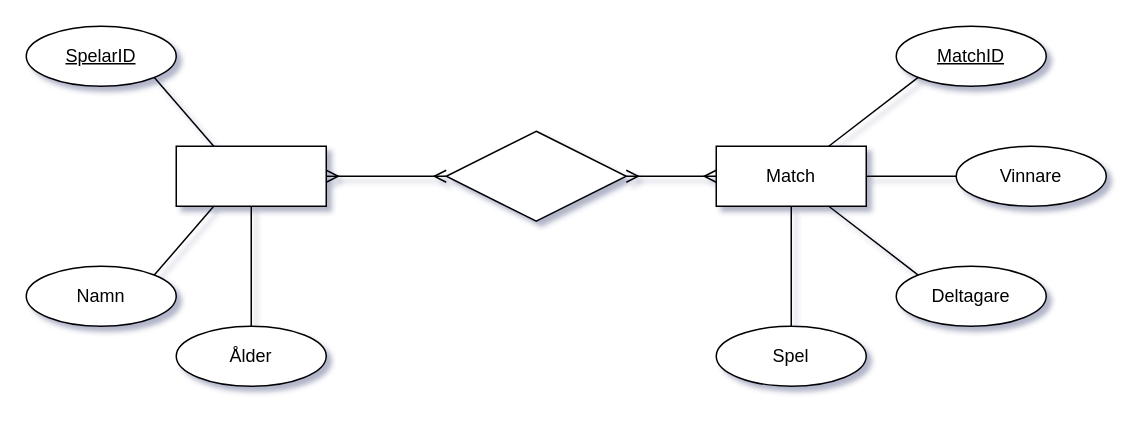
Image size: 1142x422. Some labels were removed from this diagram. The centre of each missing label's shape, as x and y in pixels:
"Spelar i/ Deltar i" belongs at pixel 535 175.
"Spelare" belongs at pixel 250 175.
